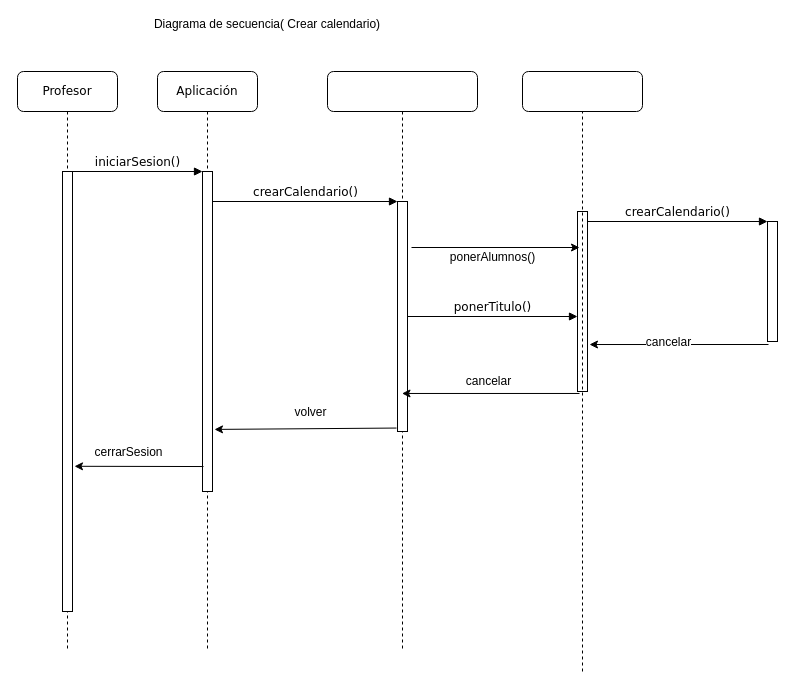
Some shapes in this 795 by 690 pixel diagram are drawn without their labels. The shapes that lost their labels are listed below. From the top down, each one's box as (x1, y1, x2, y2) in pixels, then its label:
(522, 70, 642, 112): Calendario
(326, 70, 478, 652): VistaCrearCalendario
